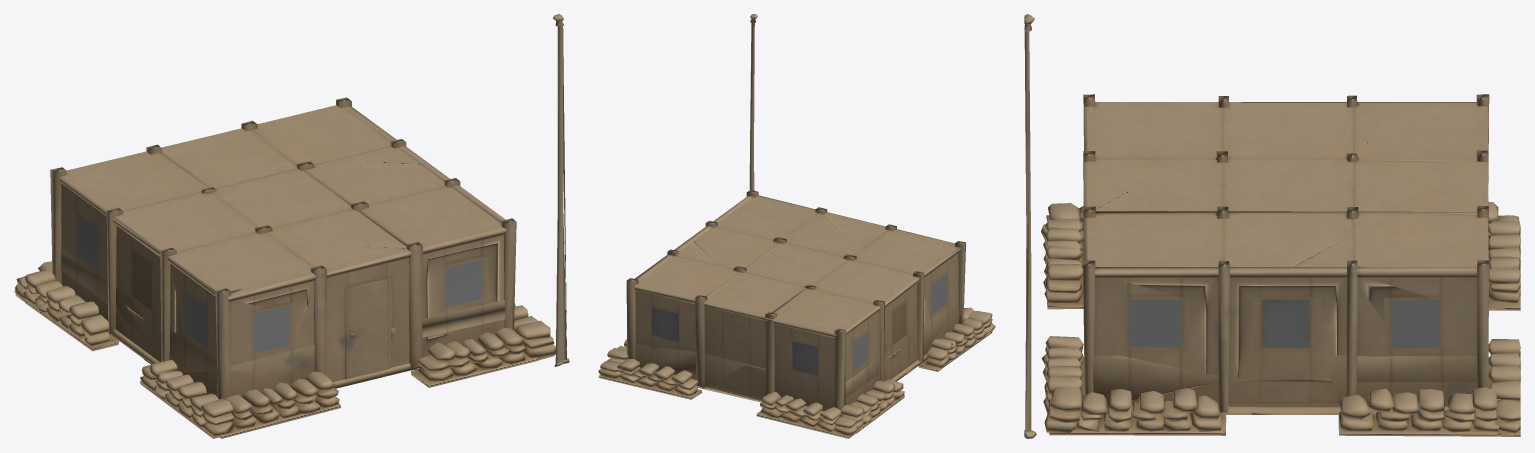
The model's file is us-barracks.glb.
3 views of the same model, side by side, from view 1: azimuth 30°, elevation 25°; view 2: azimuth 150°, elevation 25°; view 3: azimuth 270°, elevation 25° (orthographic). The views are drawn at different scales.
Parts seen in each view (by area): view 1: geometry_0; view 2: geometry_0; view 3: geometry_0.
Boxes of the visible parts, x1,y1,x2,y2 form: geometry_0: [14, 14, 569, 438]; geometry_0: [598, 14, 995, 438]; geometry_0: [1024, 14, 1520, 438].
Size of the model in its own units: 0.9764 by 0.9317 by 1.
1 material, 1 textured.
